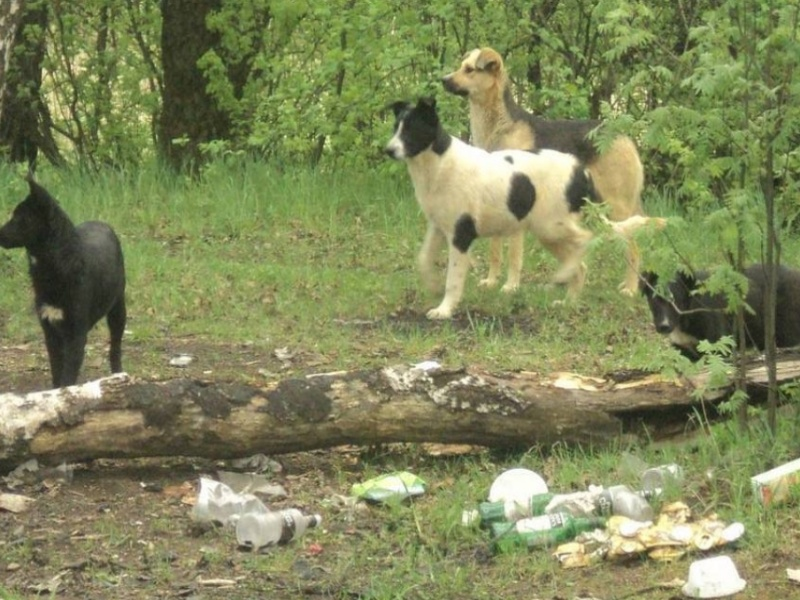dog: (443, 48, 654, 312), (386, 98, 607, 323), (1, 179, 136, 393)
